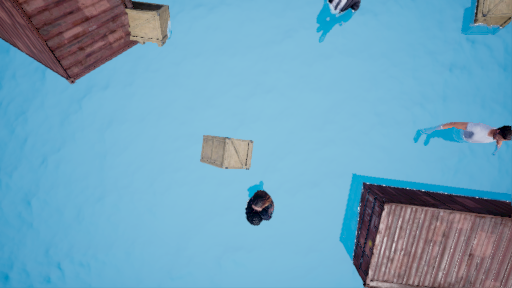person: (417, 114, 508, 161), (313, 1, 358, 49), (242, 181, 281, 227)
